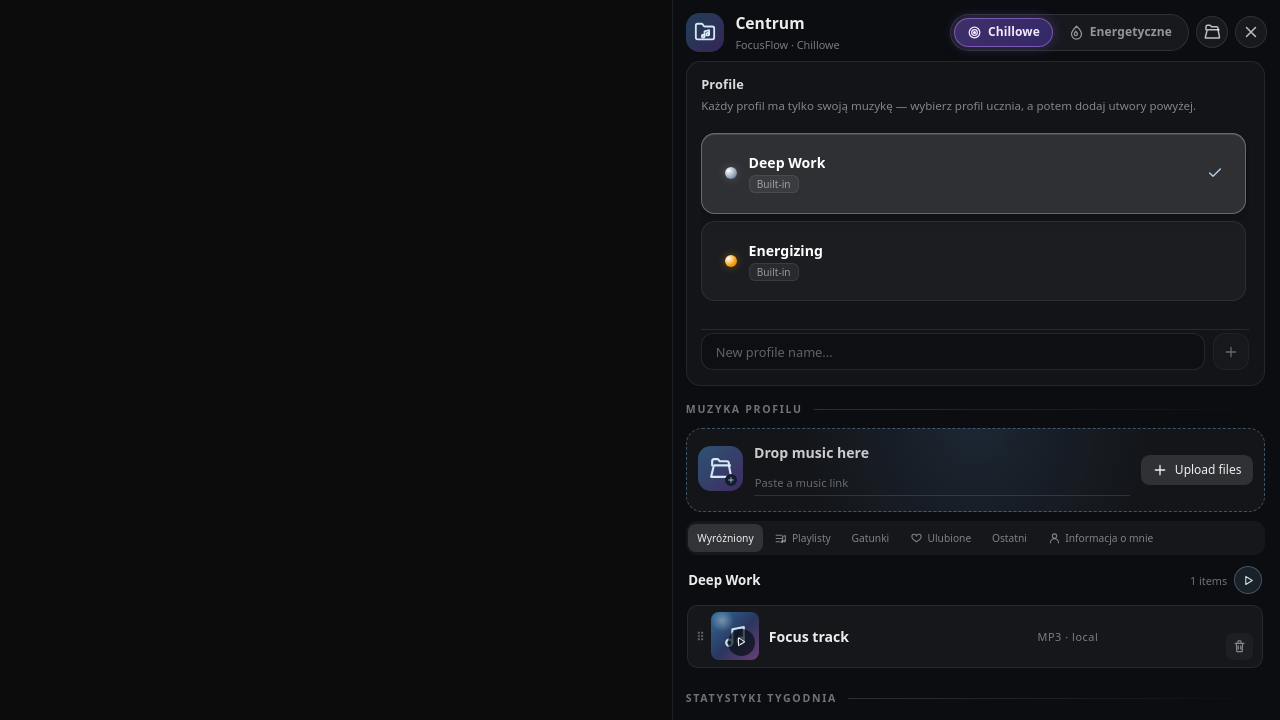
HubPanel › renders the music library without the redundant bottom profile section
The width and height of the screenshot is (1280, 720).
Expected: the button named "Delete Focus track from Deep Work" is shown, [1226,633,1253,660]
Click the tab "Informacja o mnie": (1101, 538) [1039,524,1162,552]
(page scrolled)
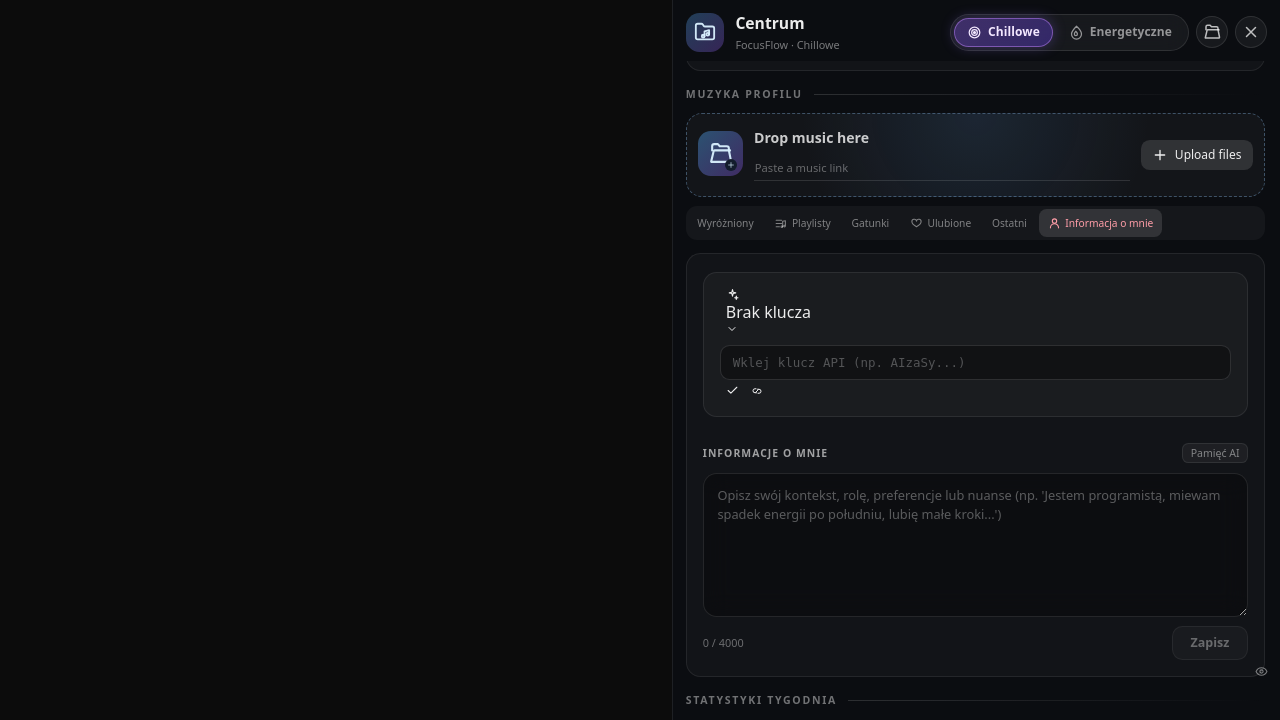
Expected: the text box named "Informacje o mnie" is shown, [703,472,1248,616]
